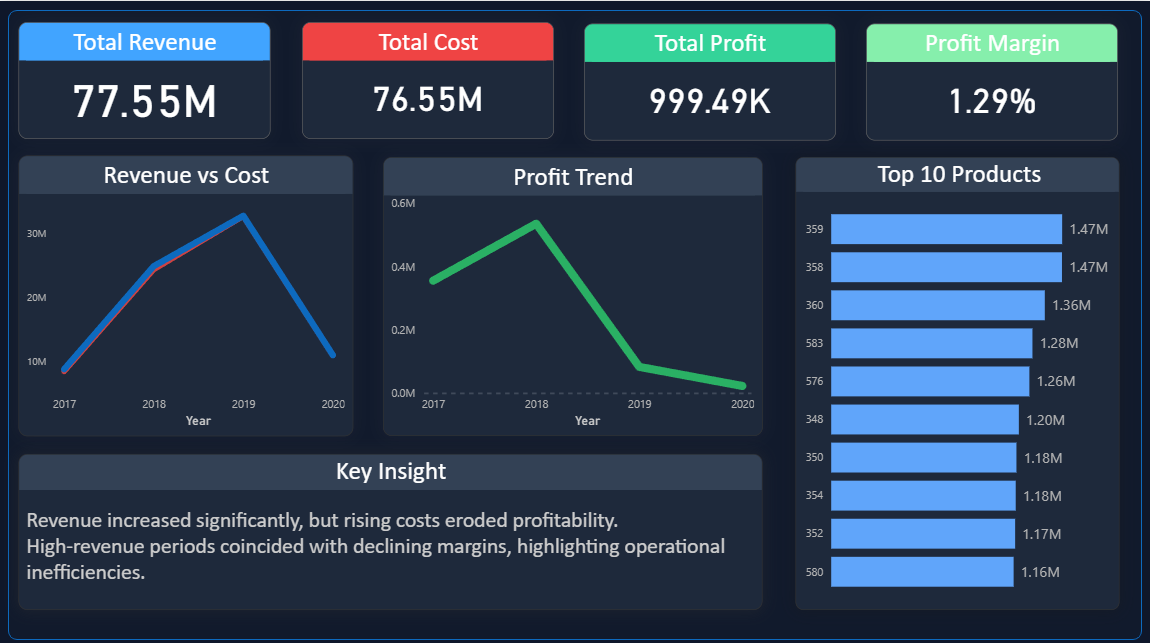

The page's visual inventory and layout, read from the dashboard file:
{"tool":"powerbi","page":{"name":"Page 1","canvas":[1280,720],"ordinal":0},"visuals":[{"type":"shape","box":[10,10,1260,700],"z":0},{"type":"card","title":"Total Revenue","fields":{"Values":["Sum(monthly_sales_clean.monthly_revenue)"]},"box":[21.7,23.3,280,130],"z":1000},{"type":"card","title":"Total Profit","fields":{"Values":["Sum(monthly_sales_clean.monthly_profit)"]},"box":[650,25,280,130],"z":2000},{"type":"card","title":"Profit Margin","fields":{"Values":["monthly_sales_clean.Margin"]},"box":[963.3,25,280,130],"z":3000},{"type":"lineChart","title":"Revenue vs Cost","fields":{"Category":["monthly_sales_clean.month_start.Variation.Date Hierarchy.Year","monthly_sales_clean.month_start.Variation.Date Hierarchy.Quarter","monthly_sales_clean.month_start.Variation.Date Hierarchy.Month","monthly_sales_clean.month_start.Variation.Date Hierarchy.Day"],"Y":["Sum(monthly_sales_clean.monthly_cost)","Sum(monthly_sales_clean.monthly_revenue)"]},"box":[21.7,171.7,371.7,311.7],"z":4000},{"type":"lineChart","title":"Profit Trend ","fields":{"Category":["monthly_sales_clean.month_start.Variation.Date Hierarchy.Year","monthly_sales_clean.month_start.Variation.Date Hierarchy.Quarter","monthly_sales_clean.month_start.Variation.Date Hierarchy.Month","monthly_sales_clean.month_start.Variation.Date Hierarchy.Day"],"Y":["Sum(monthly_sales_clean.monthly_profit)"]},"box":[426.7,173.3,421.7,310],"z":5000},{"type":"card","title":"Total Cost","fields":{"Values":["Sum(monthly_sales_clean.monthly_cost)"]},"box":[336.7,23.3,280,130],"z":6000},{"type":"clusteredBarChart","title":"Top 10 Products","fields":{"Category":["product_performance.productkey"],"Y":["Sum(product_performance.total_revenue)"]},"box":[885,173.3,360,503.3],"z":7000},{"type":"textbox","title":"Key Insight","box":[21.7,503.3,826.7,173.3],"z":8000}]}

Visuals, with their boxes in screenshot pixels (x1, y1, x2, y2), scaled from the page's 1280x720 canvas onto the 1150x643 screenshot:
shape: locate(9, 9, 1141, 634)
"Total Revenue" card: locate(19, 21, 271, 137)
"Total Profit" card: locate(584, 22, 836, 138)
"Profit Margin" card: locate(865, 22, 1117, 138)
"Revenue vs Cost" lineChart: locate(19, 153, 353, 432)
"Profit Trend " lineChart: locate(383, 155, 762, 432)
"Total Cost" card: locate(303, 21, 554, 137)
"Top 10 Products" clusteredBarChart: locate(795, 155, 1119, 604)
"Key Insight" textbox: locate(19, 449, 762, 604)
